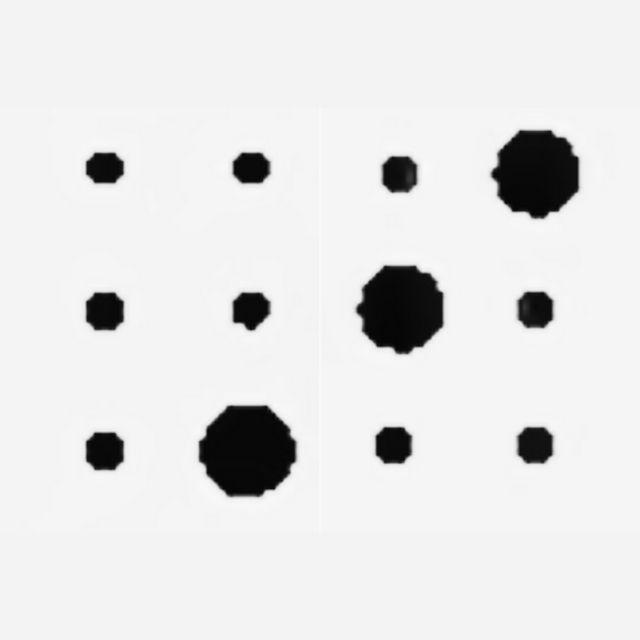I: (356, 130, 583, 497)
capital: (62, 127, 296, 495)
